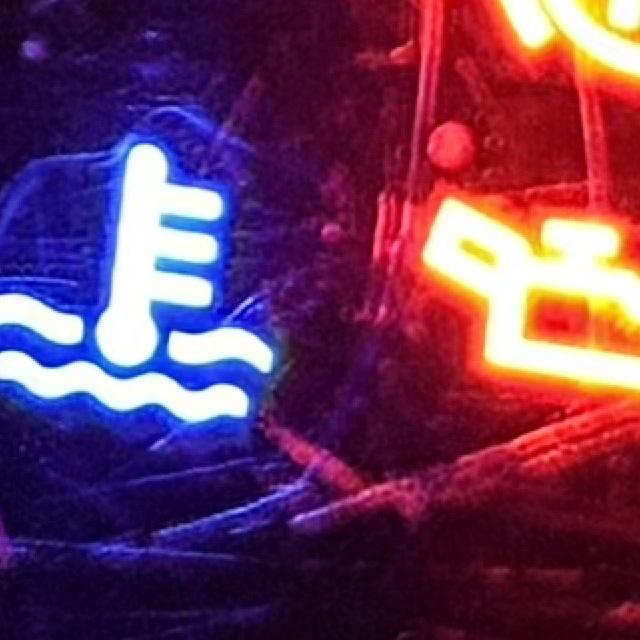High Engine Temperature: (2, 138, 280, 431)
Low Oil Pressure Issue: (417, 190, 640, 400)
